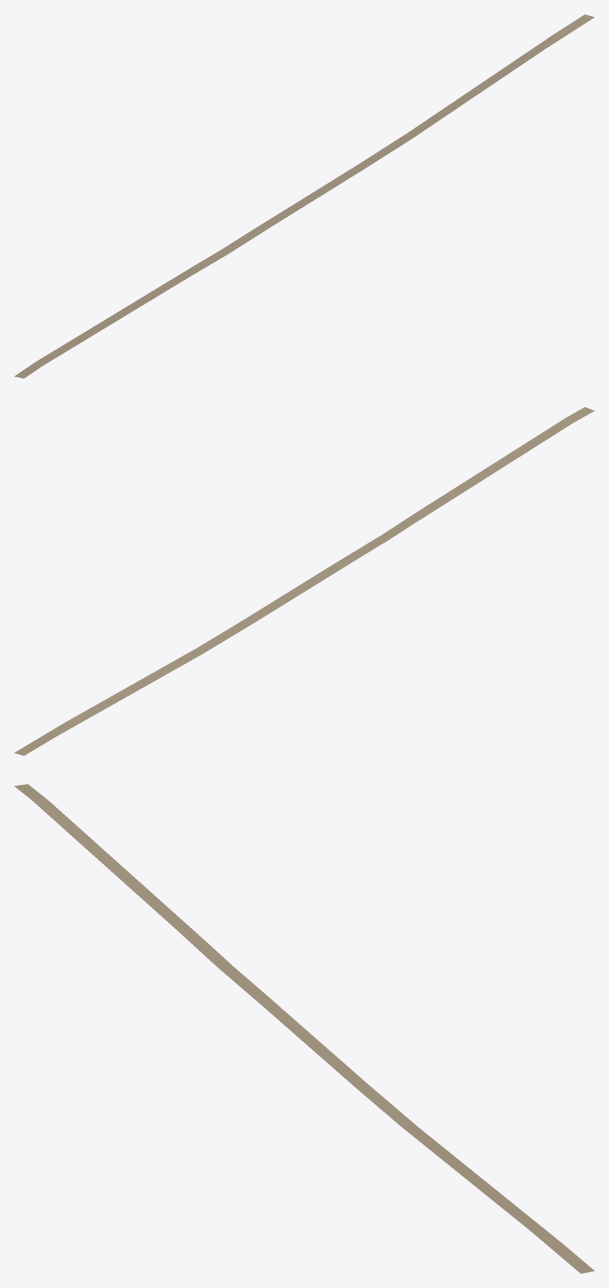
Rendered from farm_21_12_track.glb.
The picture shows the model from 3 angles, top to bottom: view 1: azimuth 30°, elevation 25°; view 2: azimuth 210°, elevation 25°; view 3: azimuth 270°, elevation 25°; orthographic projection. The views are drawn at different scales.
Parts seen in each view (by area): view 1: geometry_0; view 2: geometry_0; view 3: geometry_0.
Part boxes in pixels (box(x1,y1,x2,y2)): geometry_0: box(14, 14, 594, 378); geometry_0: box(14, 407, 594, 755); geometry_0: box(14, 784, 594, 1273).
Bounding box in the file's own units: 248 × 3.02 × 121.
